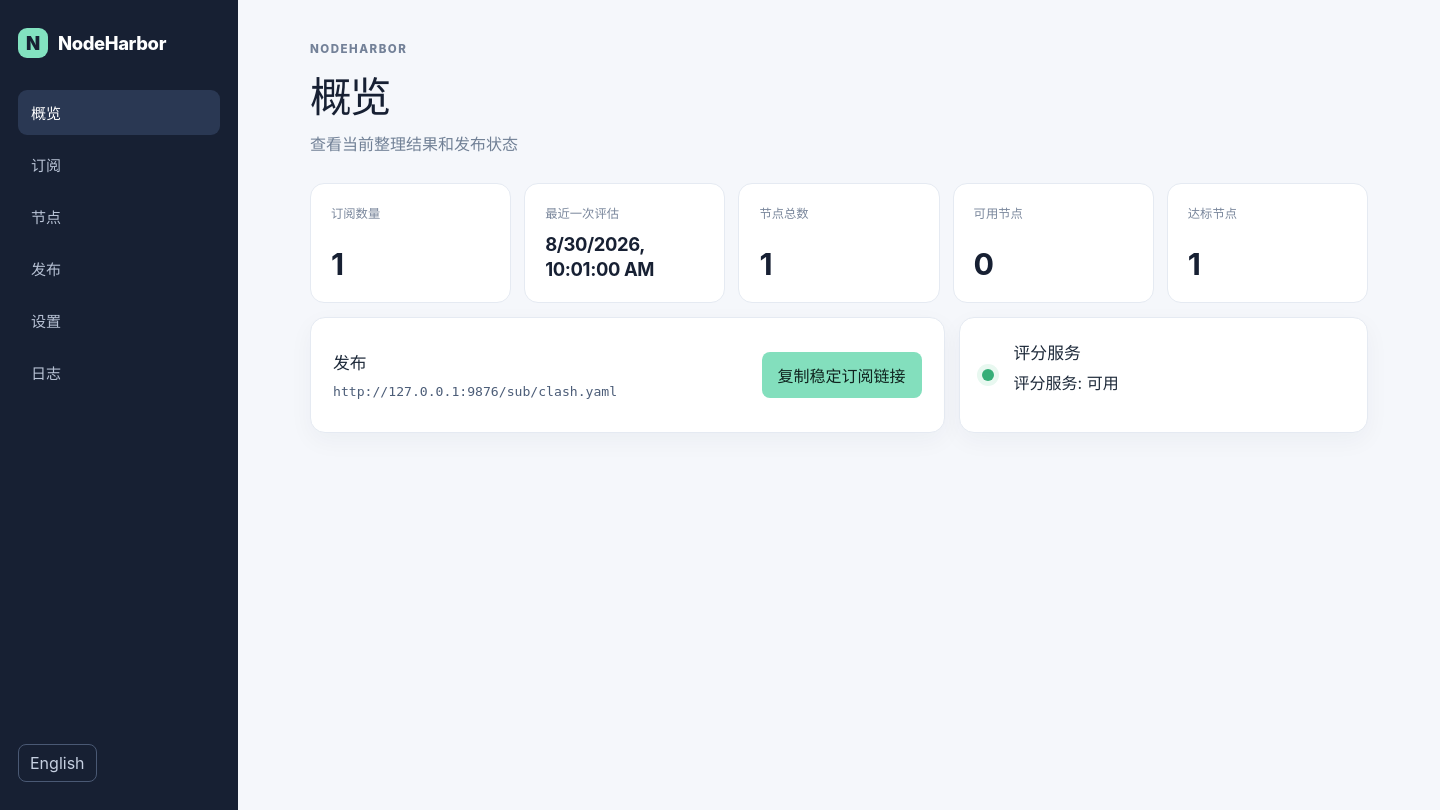
Test: Settings and Logs are separate destinations and History is not exposed
What coordinates should you click on to do the following:
click the link "设置"
I would click on:
 (46, 322)
Its box is x1=31 y1=312 x2=61 y2=331.
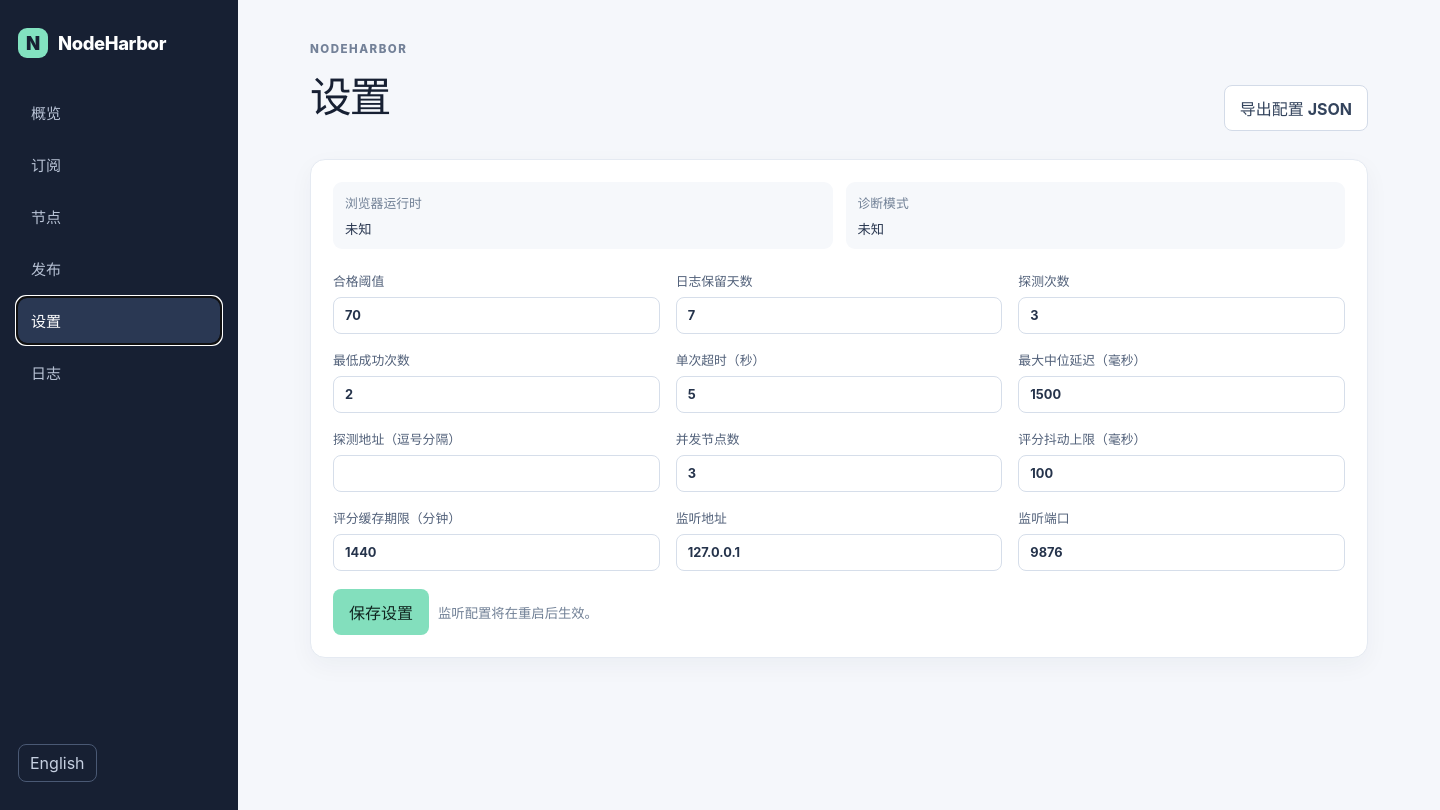
Check: the heading "设置" is shown, box x1=310 y1=72 x2=390 y2=122
Check: the number field labelled "合格阈值" holds "70", box x1=333 y1=297 x2=660 y2=334
What coordinates should you click on to do the following:
click the link "日志"
I would click on:
 (46, 374)
Its box is x1=31 y1=364 x2=61 y2=383.
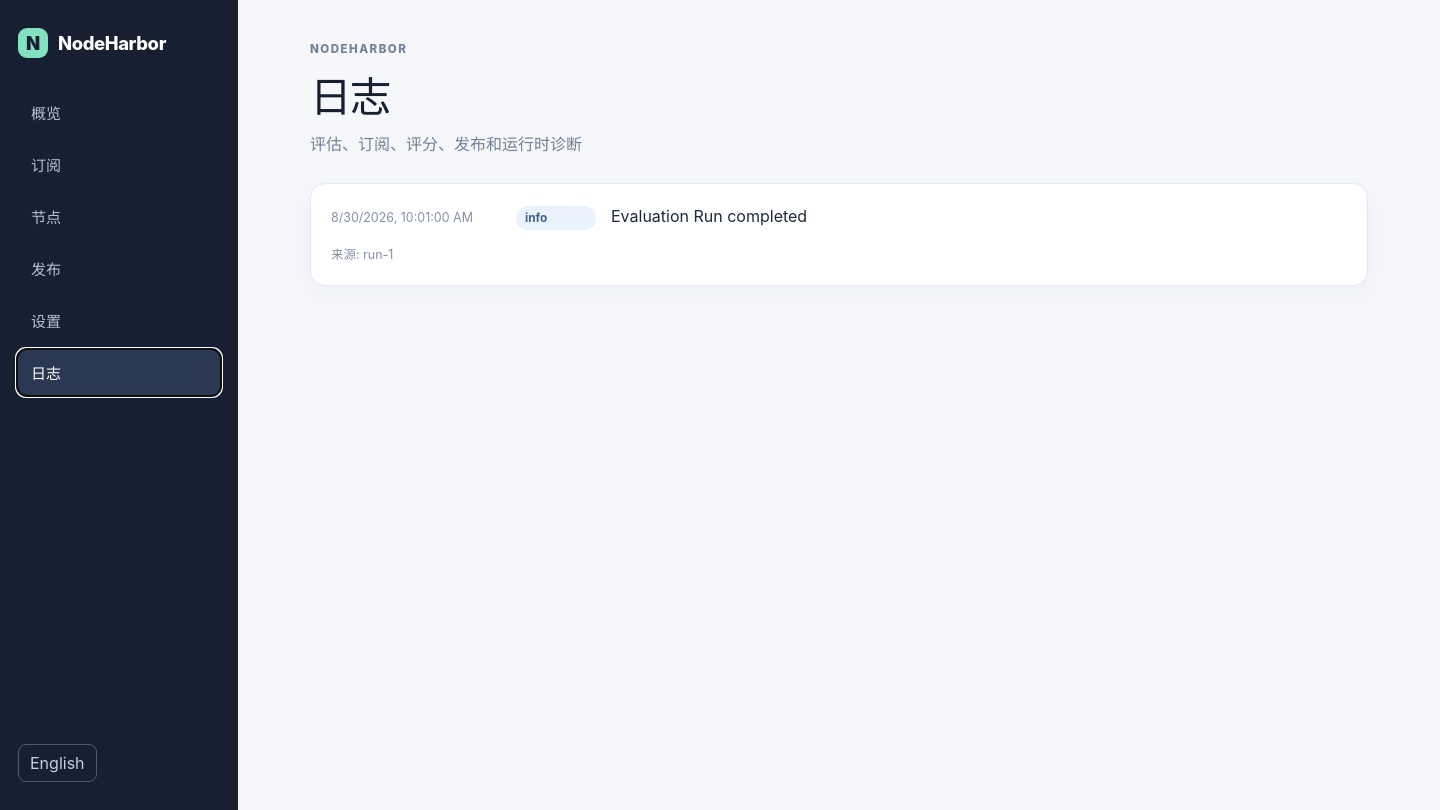
Check: the heading "日志" is shown, box x1=310 y1=72 x2=390 y2=122
Check: the text "Evaluation Run completed" is shown, box x1=611 y1=206 x2=807 y2=226
